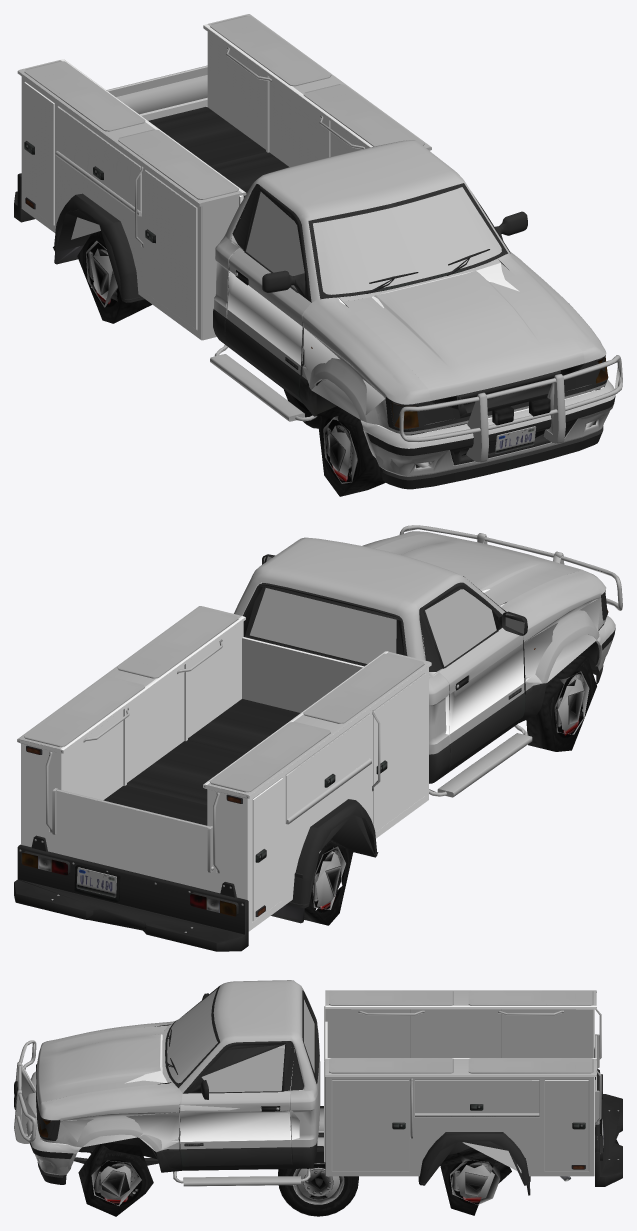
File: utility.glb
The picture shows the model from 3 angles, top to bottom: view 1: azimuth 30°, elevation 25°; view 2: azimuth 150°, elevation 25°; view 3: azimuth 270°, elevation 25°; orthographic projection. The views are drawn at different scales.
Visible parts, largest first — view 1: far, paint0, kit0, kit1, paint1, glass1, glass0; view 2: far, paint0, kit0, kit1, paint1, glass1, glass0; view 3: paint0, paint1, far, kit0, kit1, glass0, glass1, wheel0, wheel1.
Part boxes in pixels (bbox=[...]): far: bbox=[16, 24, 621, 496]; paint0: bbox=[18, 14, 615, 448]; kit0: bbox=[14, 15, 622, 489]; kit1: bbox=[26, 15, 622, 474]; paint1: bbox=[18, 14, 615, 448]; glass1: bbox=[246, 192, 495, 294]; glass0: bbox=[246, 187, 501, 294]; far: bbox=[17, 540, 607, 951]; paint0: bbox=[18, 531, 615, 920]; kit0: bbox=[14, 525, 622, 951]; kit1: bbox=[15, 525, 618, 951]; paint1: bbox=[19, 531, 615, 887]; glass1: bbox=[254, 589, 496, 666]; glass0: bbox=[250, 588, 496, 666]; paint0: bbox=[26, 980, 599, 1176]; paint1: bbox=[27, 980, 599, 1175]; far: bbox=[21, 985, 622, 1216]; kit0: bbox=[14, 986, 622, 1195]; kit1: bbox=[16, 991, 622, 1186]; glass0: bbox=[167, 988, 314, 1092]; glass1: bbox=[167, 995, 314, 1091]; wheel0: bbox=[278, 1163, 358, 1216]; wheel1: bbox=[283, 1163, 350, 1216].
Bounding box in the file's own units: 2 × 2.01 × 5.37.
1 material, 1 textured.
